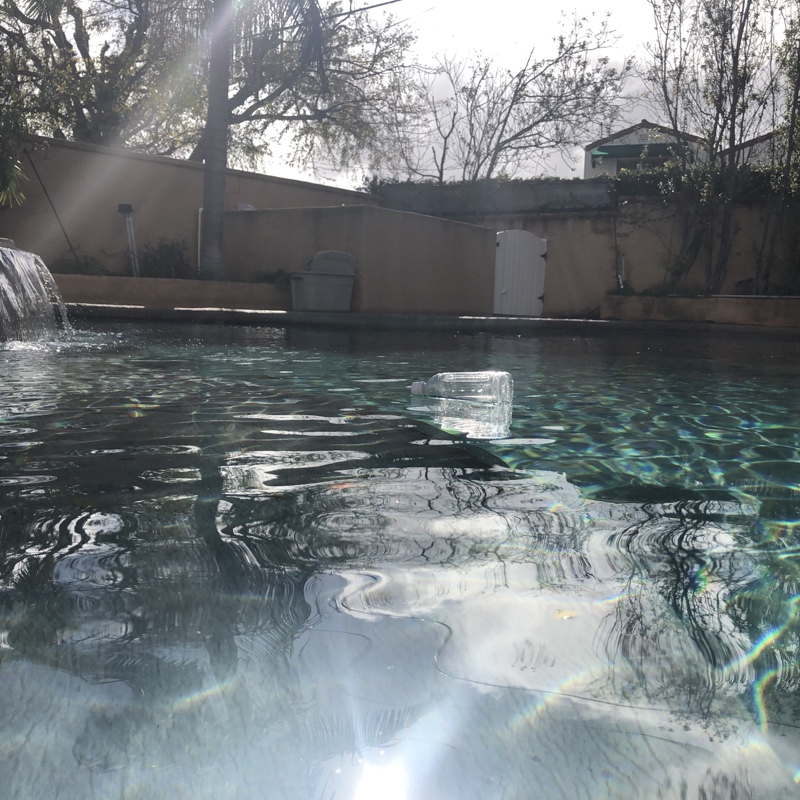Plastic Bottle: (402, 366, 516, 409)
